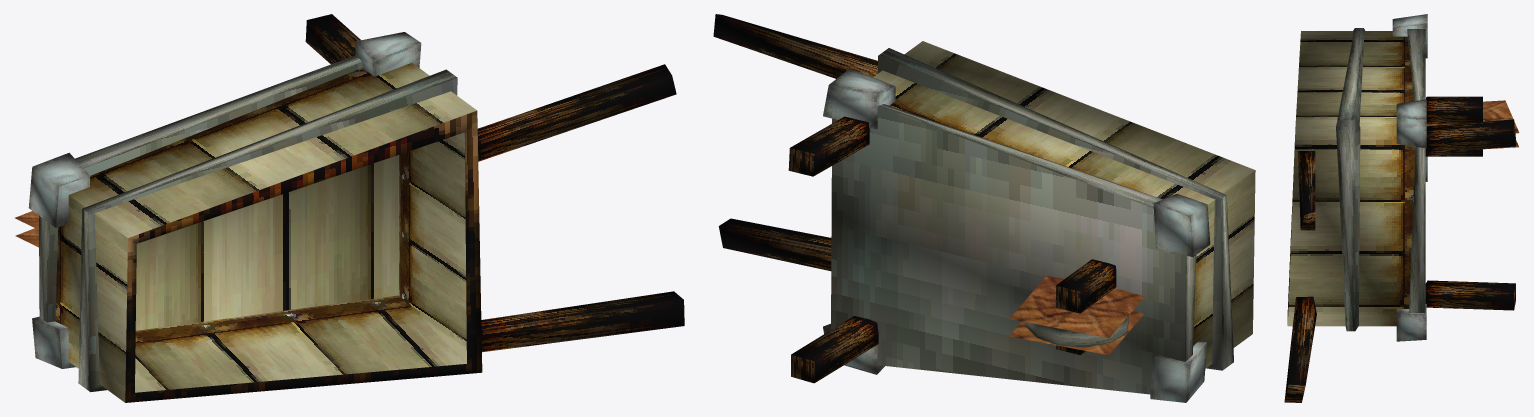
The model's file is INST_SWORDLIGHT_WHLBRRW.fbx.
The picture shows the model from 3 angles, left to right: view 1: azimuth 30°, elevation 25°; view 2: azimuth 150°, elevation 25°; view 3: azimuth 270°, elevation 25°; orthographic projection. The views are drawn at different scales.
Parts seen in each view (by area): view 1: INST_SWORDLIGHT_WHLBRRW; view 2: INST_SWORDLIGHT_WHLBRRW; view 3: INST_SWORDLIGHT_WHLBRRW.
Part boxes in pixels (x1=…): INST_SWORDLIGHT_WHLBRRW: x1=15, y1=14, x2=684, y2=402; INST_SWORDLIGHT_WHLBRRW: x1=713, y1=14, x2=1255, y2=402; INST_SWORDLIGHT_WHLBRRW: x1=1284, y1=14, x2=1519, y2=402.
Bounding box in the file's own units: 18830 × 9246 × 8732.
5 materials, 5 textured.
